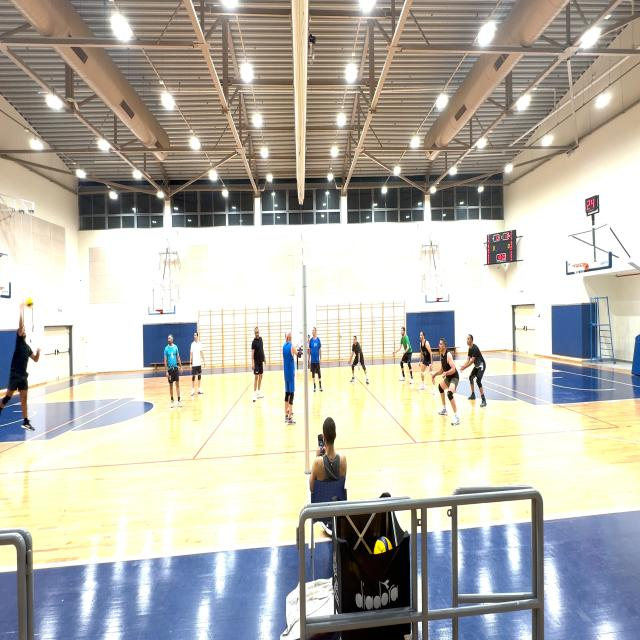volleyball: (373, 536, 393, 555), (26, 297, 34, 307)
